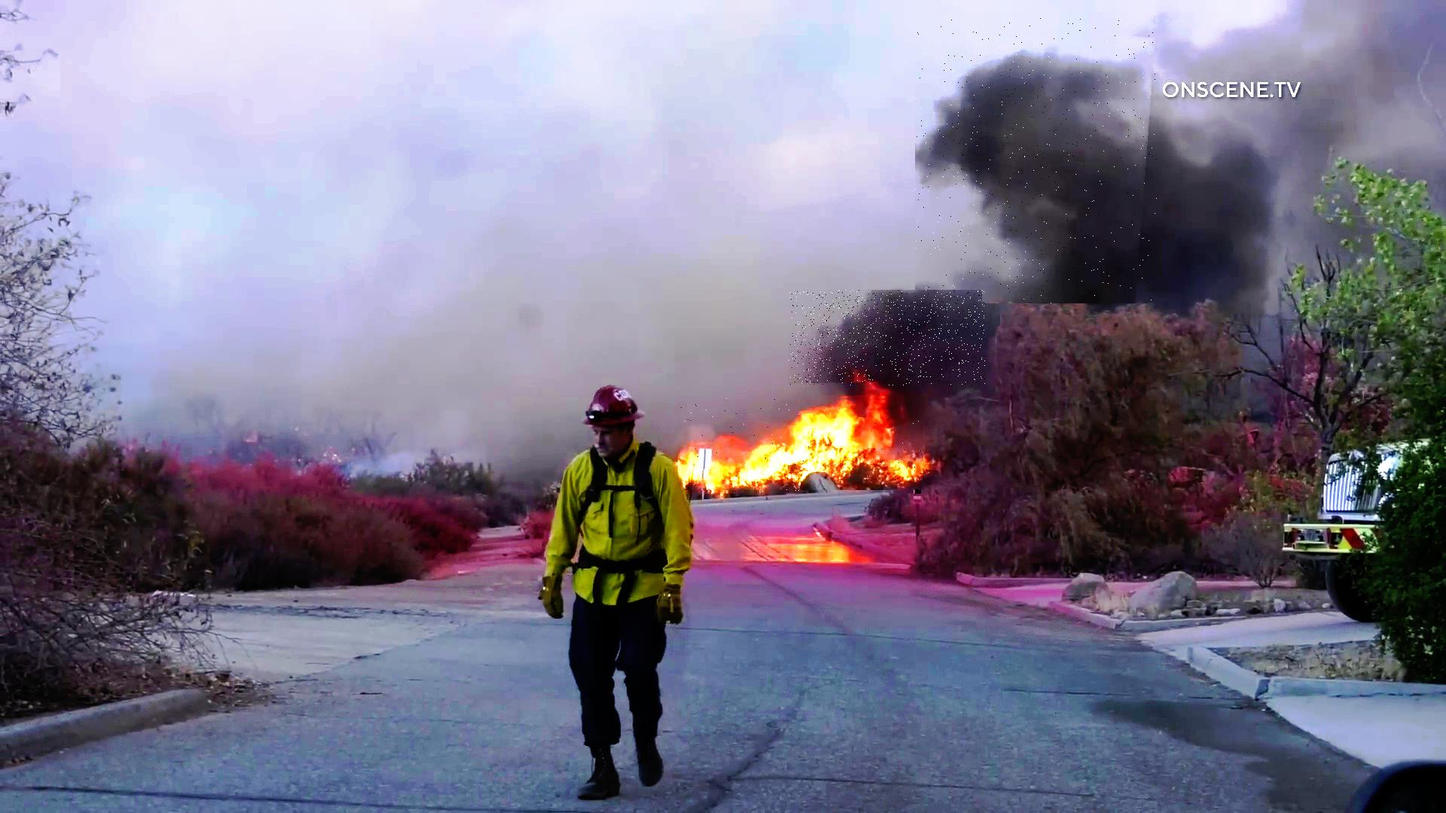fire: (678, 396, 924, 492)
smoke: (916, 15, 1157, 303), (789, 290, 986, 386)
